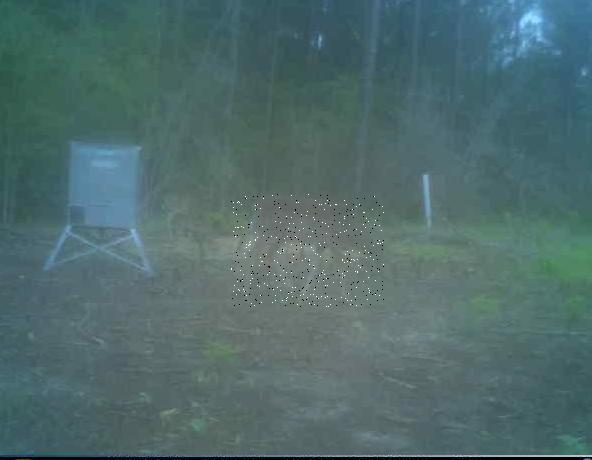Deer: (231, 194, 384, 307)
